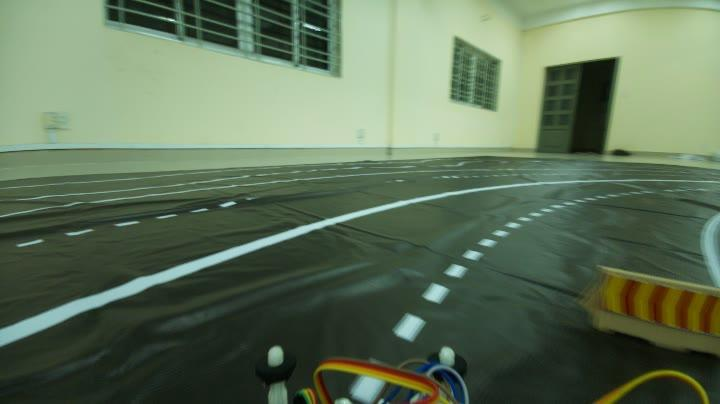roadblock: (586, 260, 720, 366)
